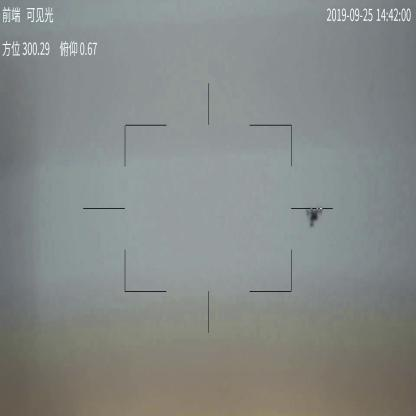uav: (304, 206, 325, 230)
